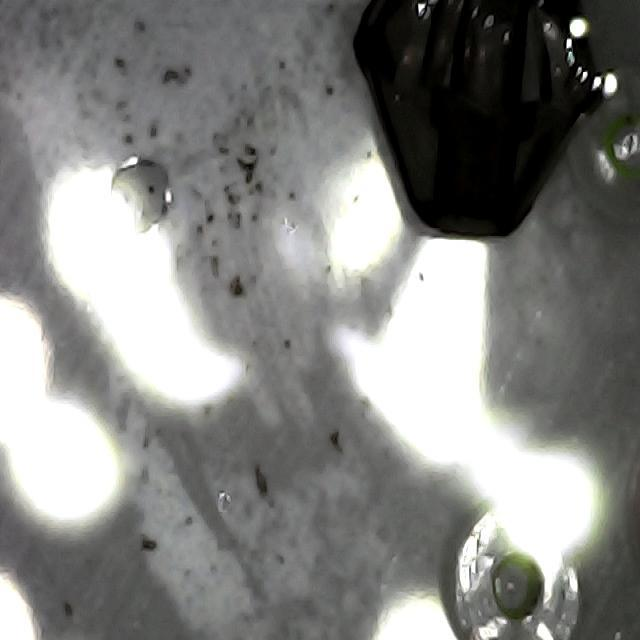beads: (455, 513, 580, 640)
fragments: (354, 0, 620, 236)
